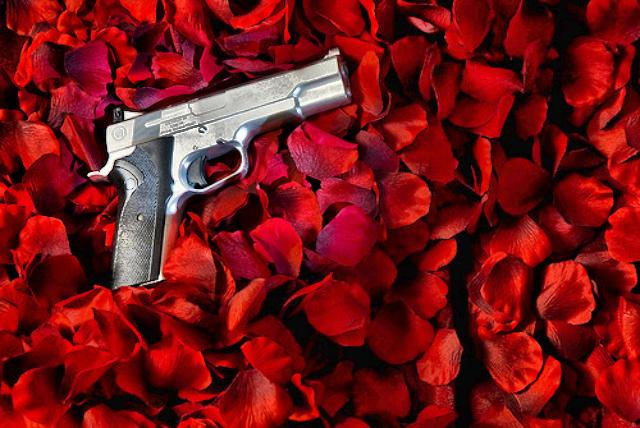pistol: (85, 45, 353, 293)
